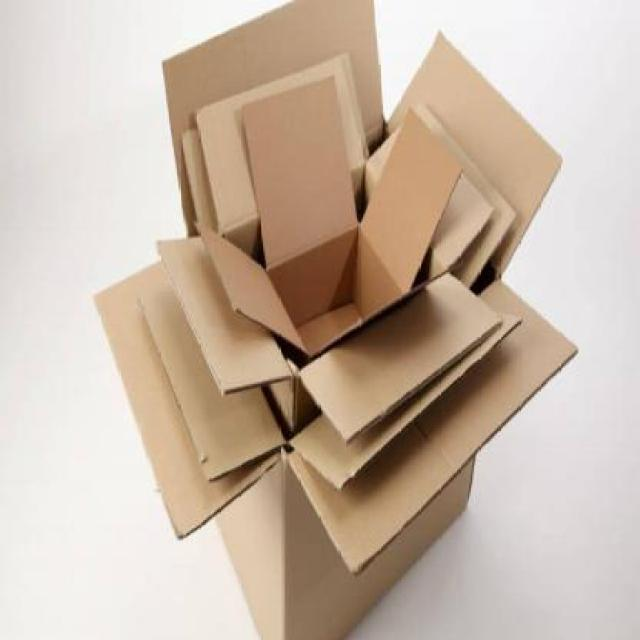box: (88, 0, 583, 640)
